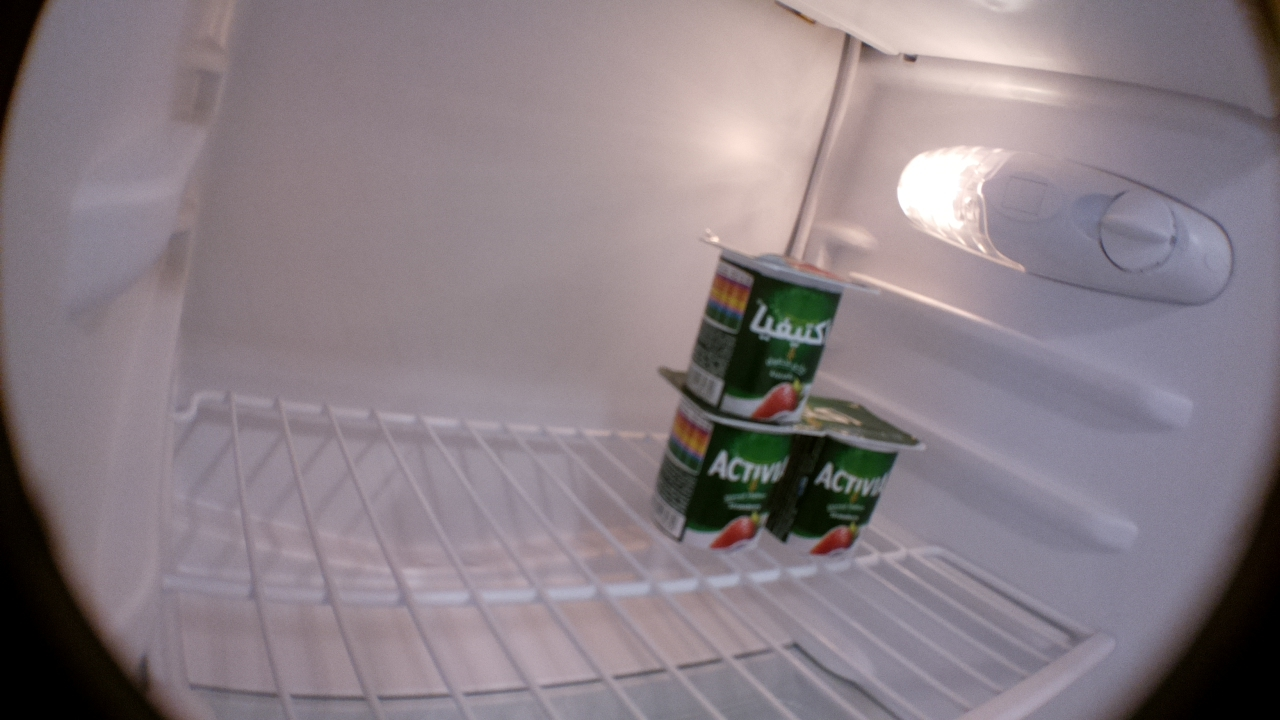yoghurt: (685, 225, 881, 423), (647, 366, 825, 559), (765, 395, 924, 559)
